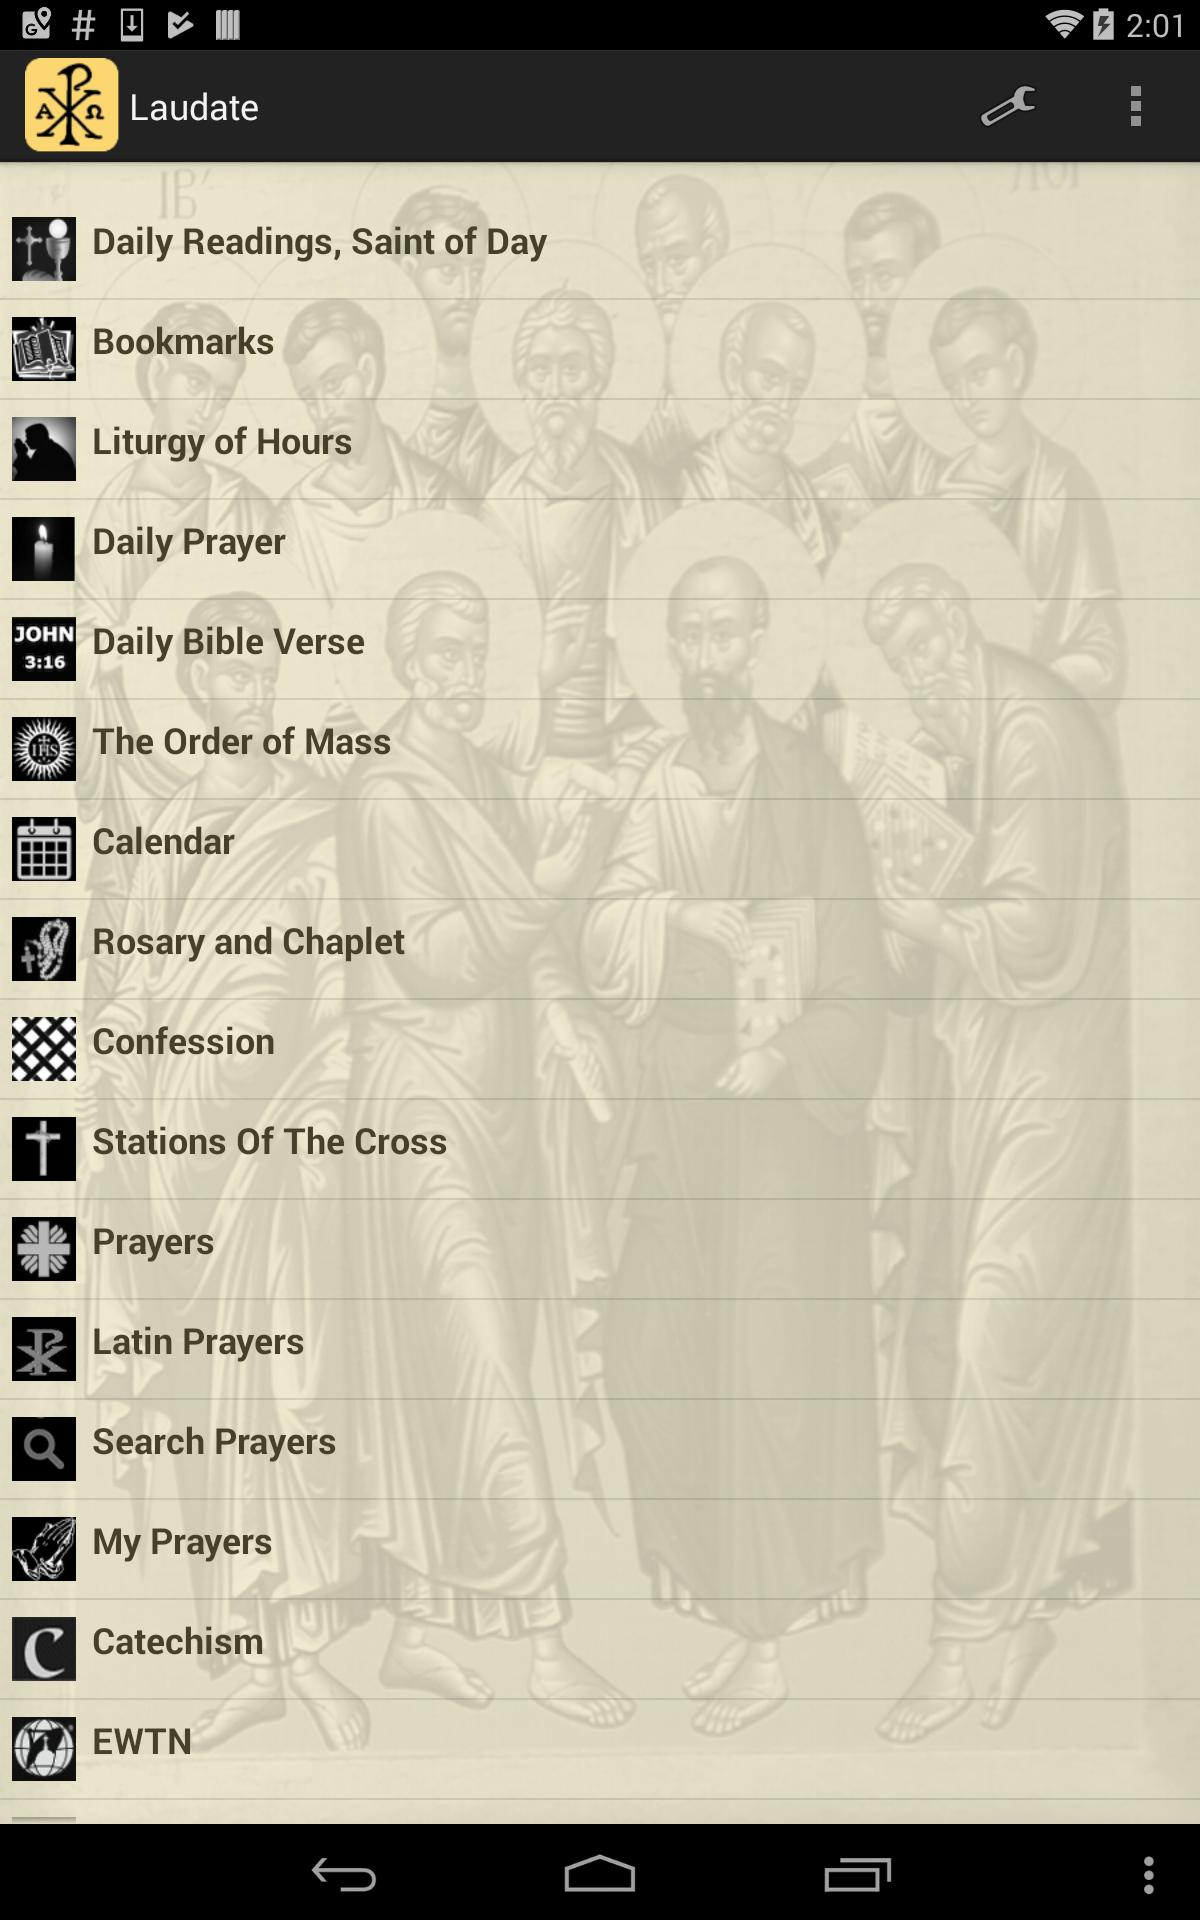android.view.View: (0, 0, 1200, 1825), (0, 162, 1200, 1825), (0, 50, 1200, 162)
android.widget.FrameLayout: (0, 0, 1200, 1825), (0, 162, 1200, 1825), (0, 50, 1200, 162), (17, 50, 129, 162)
android.widget.ImageButton: (1071, 50, 1200, 162)
android.widget.ImageView: (25, 58, 122, 153), (12, 211, 76, 286), (12, 412, 76, 487), (12, 511, 76, 586), (12, 712, 76, 787), (12, 811, 76, 886), (12, 1012, 76, 1086), (12, 1111, 76, 1186), (12, 1312, 76, 1386), (12, 1411, 76, 1486), (12, 1612, 76, 1686), (12, 312, 76, 386), (12, 612, 76, 686), (12, 912, 76, 986), (12, 1212, 76, 1286), (12, 1512, 76, 1585), (12, 1713, 76, 1786), (12, 1812, 76, 1885)
android.widget.LinearLayout: (0, 162, 1200, 1825), (0, 200, 1200, 299), (0, 300, 1200, 398), (0, 399, 1200, 498), (0, 500, 1200, 599), (0, 600, 1200, 698), (0, 699, 1200, 798), (0, 800, 1200, 898), (0, 900, 1200, 998), (0, 999, 1200, 1098), (0, 1100, 1200, 1198), (0, 1200, 1200, 1298), (0, 1299, 1200, 1397), (0, 1400, 1200, 1498), (0, 1500, 1200, 1598), (0, 1700, 1200, 1798), (0, 1800, 1200, 1898), (0, 1601, 1200, 1697), (93, 211, 1188, 286), (93, 412, 1188, 487), (93, 511, 1188, 586), (93, 712, 1188, 787), (93, 811, 1188, 886), (93, 1012, 1188, 1086), (93, 1111, 1188, 1186), (93, 1312, 1188, 1386), (93, 1411, 1188, 1486), (93, 1612, 1188, 1686), (93, 312, 1188, 386), (93, 612, 1188, 686), (93, 912, 1188, 986), (93, 1212, 1188, 1286), (93, 1512, 1188, 1585), (93, 1713, 1188, 1786), (93, 1812, 1188, 1885), (17, 50, 275, 162), (944, 50, 1200, 162), (129, 82, 275, 130)
android.widget.TextView: (93, 211, 1188, 267), (93, 312, 1188, 368), (93, 412, 1188, 467), (93, 511, 1188, 567), (93, 612, 1188, 668), (93, 712, 1188, 767), (93, 811, 1188, 867), (93, 912, 1188, 968), (93, 1012, 1188, 1067), (93, 1111, 1188, 1167), (93, 1212, 1188, 1268), (93, 1312, 1188, 1367), (93, 1411, 1188, 1467), (93, 1512, 1188, 1568), (93, 1612, 1188, 1667), (93, 1812, 1188, 1867), (93, 1713, 1188, 1767), (0, 162, 1200, 200), (93, 267, 1188, 286), (93, 467, 1188, 487), (93, 567, 1188, 586), (93, 767, 1188, 787), (93, 867, 1188, 886), (93, 1067, 1188, 1086), (93, 1167, 1188, 1186), (93, 1367, 1188, 1386), (93, 1467, 1188, 1486), (93, 1667, 1188, 1686), (93, 1767, 1188, 1786), (93, 368, 1188, 386), (93, 668, 1188, 686), (93, 968, 1188, 986), (93, 1268, 1188, 1286), (93, 1568, 1188, 1585), (944, 50, 1071, 162), (129, 82, 259, 130)
